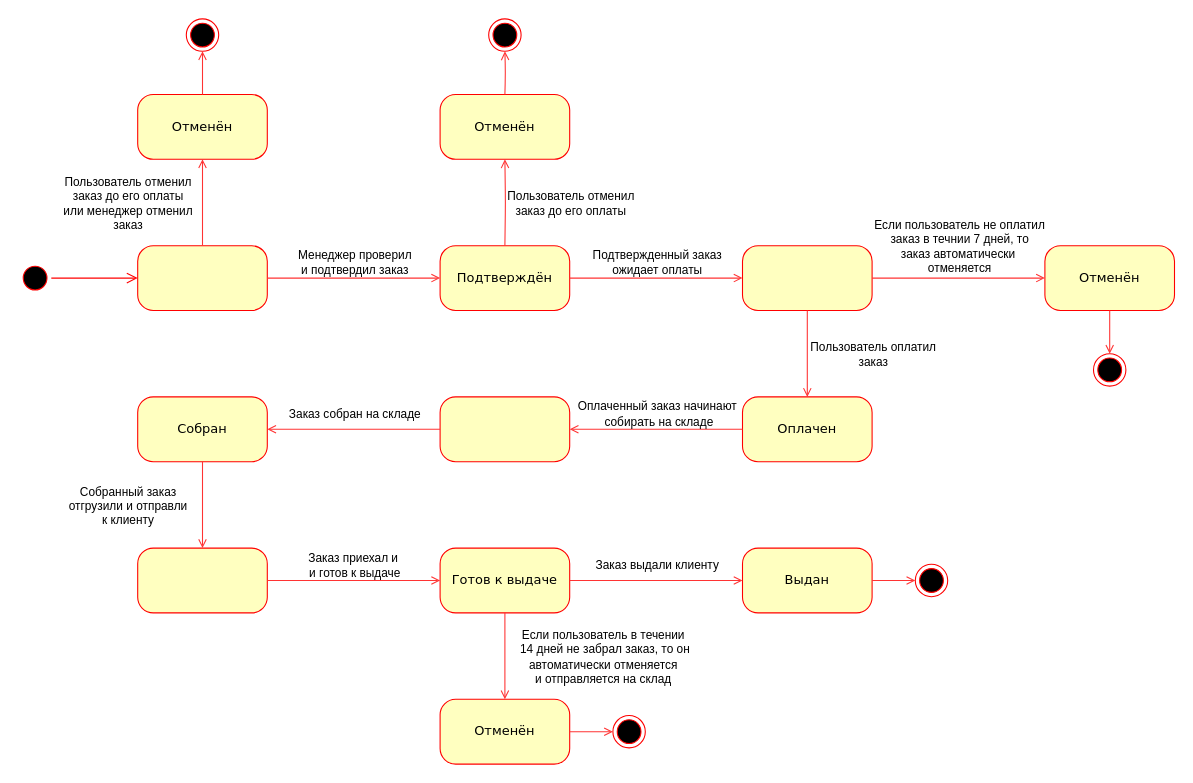
Some shapes in this 1193 by 783 pixel diagram are drawn without their labels. The box of each missing label's shape, as (x1, y1, x2, y2) in pixels:
В пути: (137, 547, 267, 613)
Ожидает оплаты: (741, 245, 872, 310)
Собирается: (439, 396, 570, 462)
Создан: (137, 245, 267, 310)
